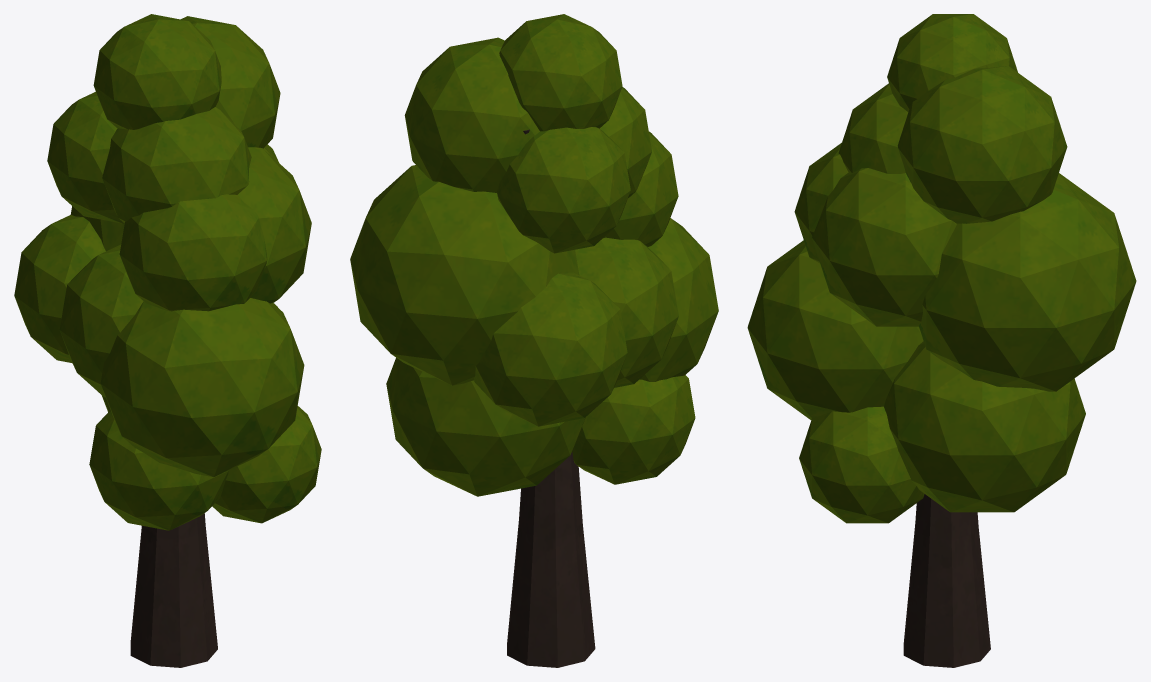
Rendered from tree-lime-green-flowers_7.fbx.
The picture shows the model from 3 angles, left to right: view 1: azimuth 30°, elevation 25°; view 2: azimuth 150°, elevation 25°; view 3: azimuth 270°, elevation 25°; orthographic projection.
Visible parts, largest first — view 1: Icosphere.129; view 2: Icosphere.129; view 3: Icosphere.129.
Part boxes in pixels (x1,y1,x2,y2): Icosphere.129: [14, 14, 321, 667]; Icosphere.129: [350, 14, 718, 667]; Icosphere.129: [747, 14, 1136, 667].
Size of the model in its own units: 149 by 357 by 201.
